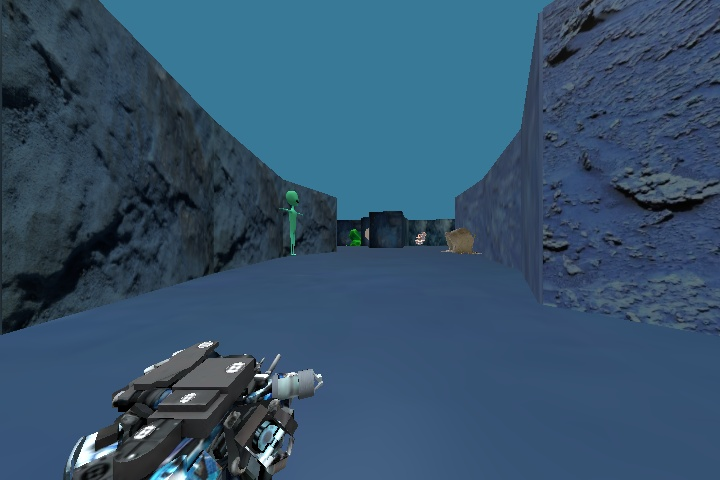formation: (440, 226, 481, 257)
green_alien: (269, 183, 312, 260)
green_crystal: (345, 224, 364, 249)
